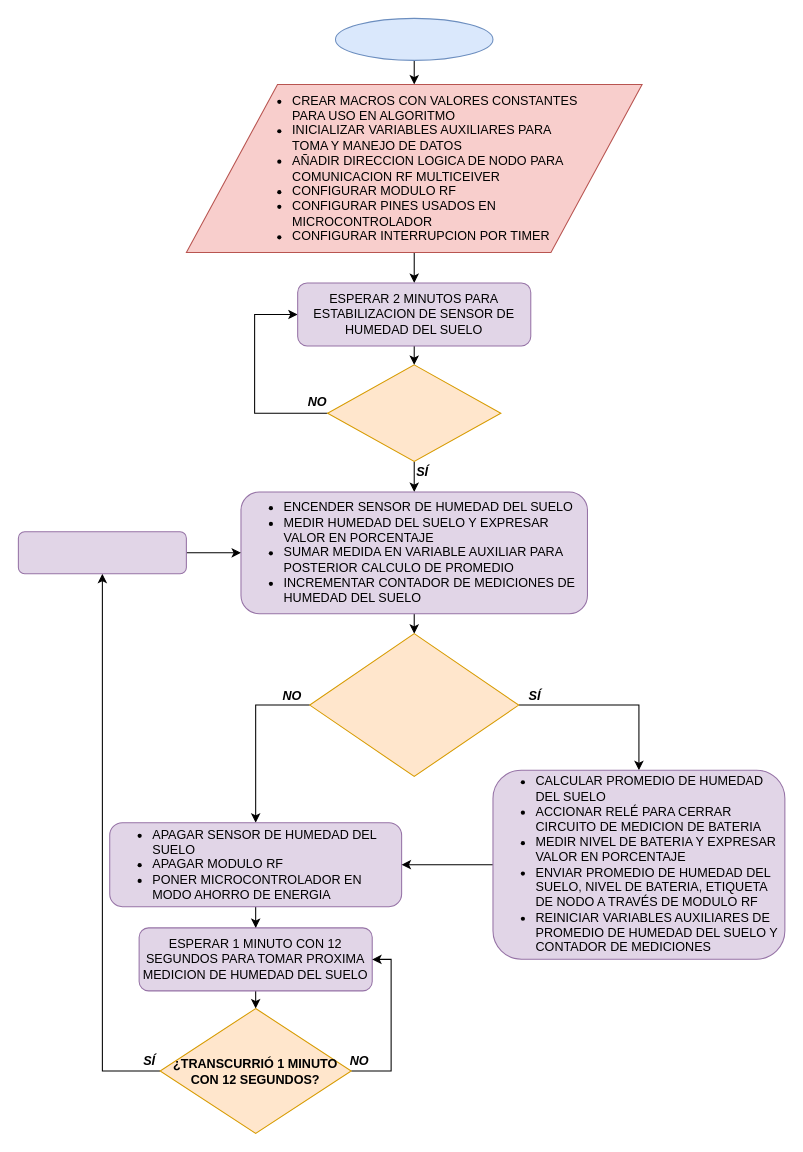
The diagram is 803 pixels wide and 1152 high, and some of its shapes have lost their labels. Here are the shapes that lost their labels. From the top down, the centre of each, then its label:
At (x=413, y=38): "INICIO".
At (x=414, y=412): "¿TRANSCURRIERON 2 MINUTOS?".
At (x=101, y=552): "ENCENDER MODULO RF".
At (x=414, y=704): "¿SE TOMARON 50 MEDIDAS DE HUMEDAD DEL SUELO?".
